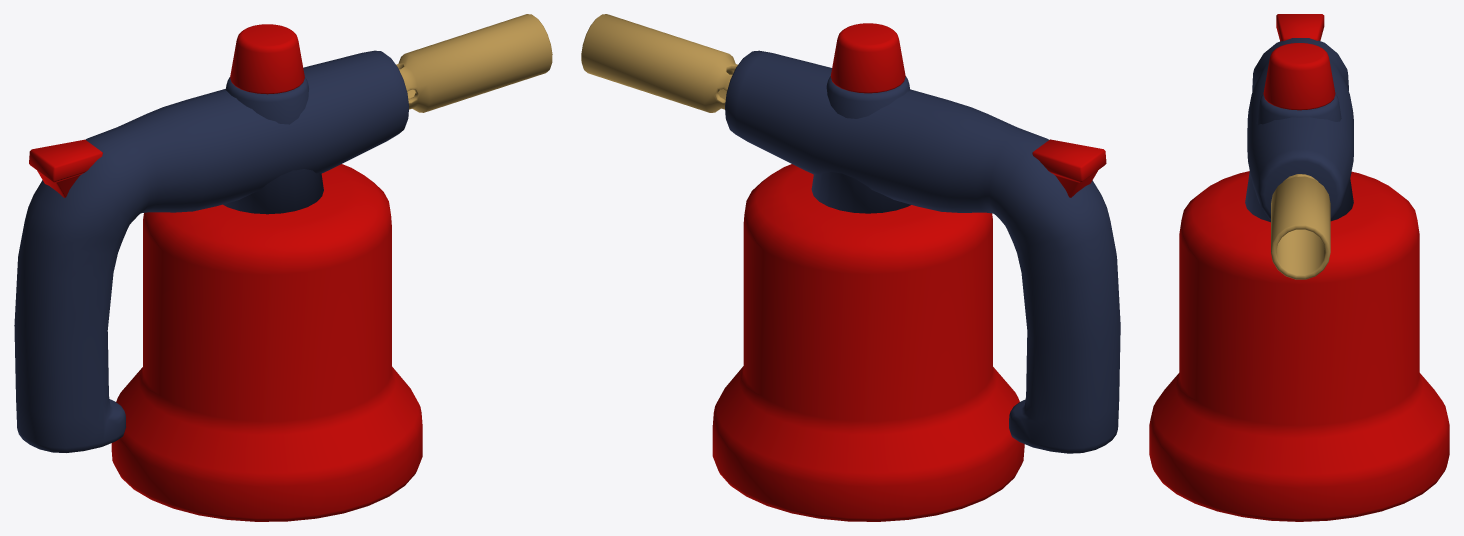
The model's file is purmuz.fbx.
The picture shows the model from 3 angles, left to right: view 1: azimuth 30°, elevation 25°; view 2: azimuth 150°, elevation 25°; view 3: azimuth 270°, elevation 25°; orthographic projection. The views are drawn at different scales.
Parts seen in each view (by area): view 1: Cylinder.010; view 2: Cylinder.010; view 3: Cylinder.010.
Part boxes in pixels (box(x1,y1,x2,y2)): Cylinder.010: box(14, 14, 552, 521); Cylinder.010: box(581, 14, 1120, 521); Cylinder.010: box(1149, 14, 1449, 521).
Size of the model in its own units: 2.96 by 2.32 by 1.54.
